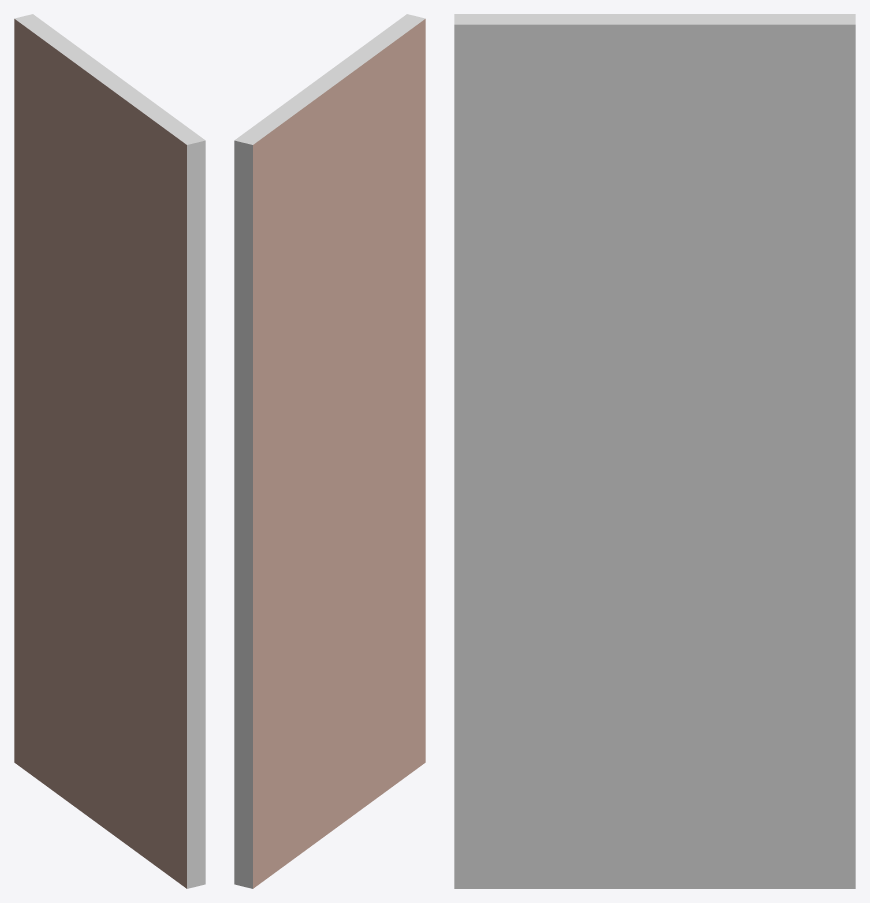
File: Warehouse_Wall.fbx
The picture shows the model from 3 angles, left to right: view 1: azimuth 30°, elevation 25°; view 2: azimuth 150°, elevation 25°; view 3: azimuth 270°, elevation 25°; orthographic projection. The views are drawn at different scales.
Visible parts, largest first — view 1: Warehouse_Wall; view 2: Warehouse_Wall; view 3: Warehouse_Wall.
Boxes of the visible parts, left/top/right/bottom form: Warehouse_Wall: left=14, top=14, right=205, bottom=888; Warehouse_Wall: left=234, top=14, right=425, bottom=888; Warehouse_Wall: left=454, top=14, right=855, bottom=888.
Bounding box in the file's own units: 0.5 × 19 × 8.
